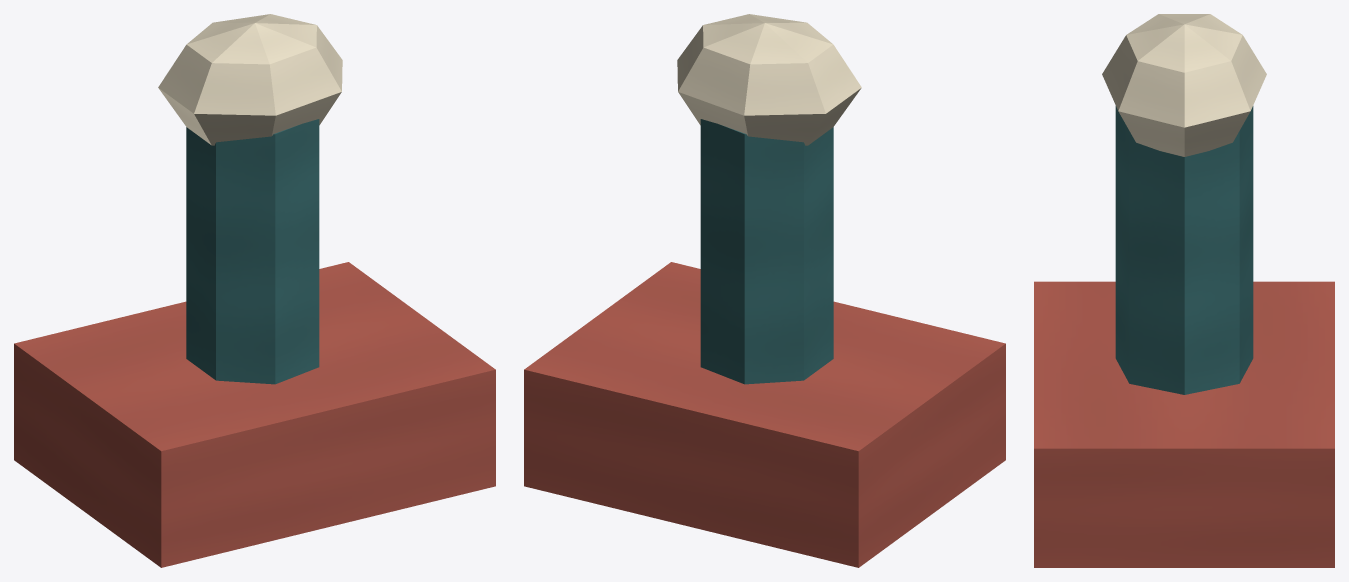
Rendered from atlas100-s032-a05.lod1.glb.
3 renders of one model, left to right at view 1: azimuth 30°, elevation 25°; view 2: azimuth 150°, elevation 25°; view 3: azimuth 270°, elevation 25°, orthographic. The views are drawn at different scales.
Parts seen in each view (by area): view 1: atlas100-s032-a05:part-000, atlas100-s032-a05:part-001, atlas100-s032-a05:part-002; view 2: atlas100-s032-a05:part-000, atlas100-s032-a05:part-001, atlas100-s032-a05:part-002; view 3: atlas100-s032-a05:part-000, atlas100-s032-a05:part-001, atlas100-s032-a05:part-002.
Part boxes in pixels (box(x1,y1,x2,y2)): atlas100-s032-a05:part-000: box(14, 262, 495, 567); atlas100-s032-a05:part-001: box(186, 119, 319, 384); atlas100-s032-a05:part-002: box(158, 14, 342, 145); atlas100-s032-a05:part-000: box(524, 262, 1005, 567); atlas100-s032-a05:part-001: box(700, 119, 833, 384); atlas100-s032-a05:part-002: box(677, 14, 861, 145); atlas100-s032-a05:part-000: box(1034, 281, 1334, 567); atlas100-s032-a05:part-001: box(1115, 106, 1253, 394); atlas100-s032-a05:part-002: box(1102, 14, 1266, 156).
Size of the model in its own units: 0.4586 by 0.5897 by 0.3494.
Materials: 3 (3 with a texture image).
